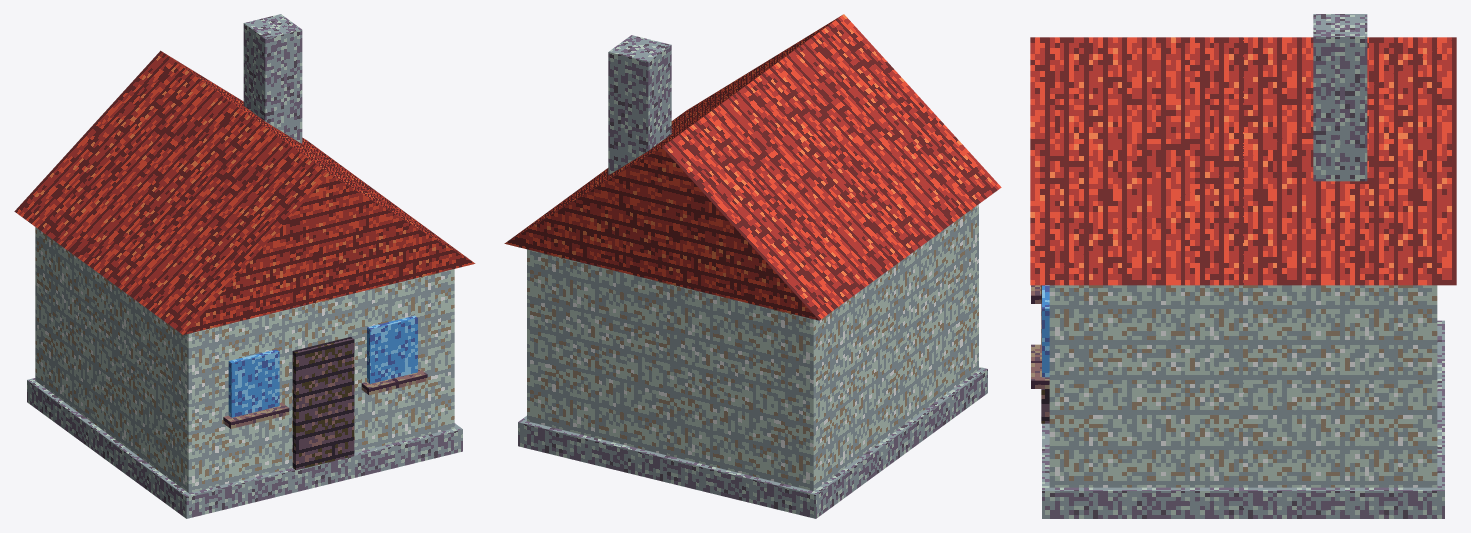
Rendered from casa_1.glb.
3 renders of one model, left to right at view 1: azimuth 30°, elevation 25°; view 2: azimuth 150°, elevation 25°; view 3: azimuth 270°, elevation 25°, orthographic. The views are drawn at different scales.
Parts seen in each view (by area): view 1: casa_1; view 2: casa_1; view 3: casa_1.
Part boxes in pixels (x1,y1,x2,y2): casa_1: (14,14,475,518); casa_1: (504,14,1001,518); casa_1: (1030,14,1456,518).
Bounding box in the file's own units: 5.5 × 6.4 × 5.5.
Materials: 6 (6 with a texture image).
